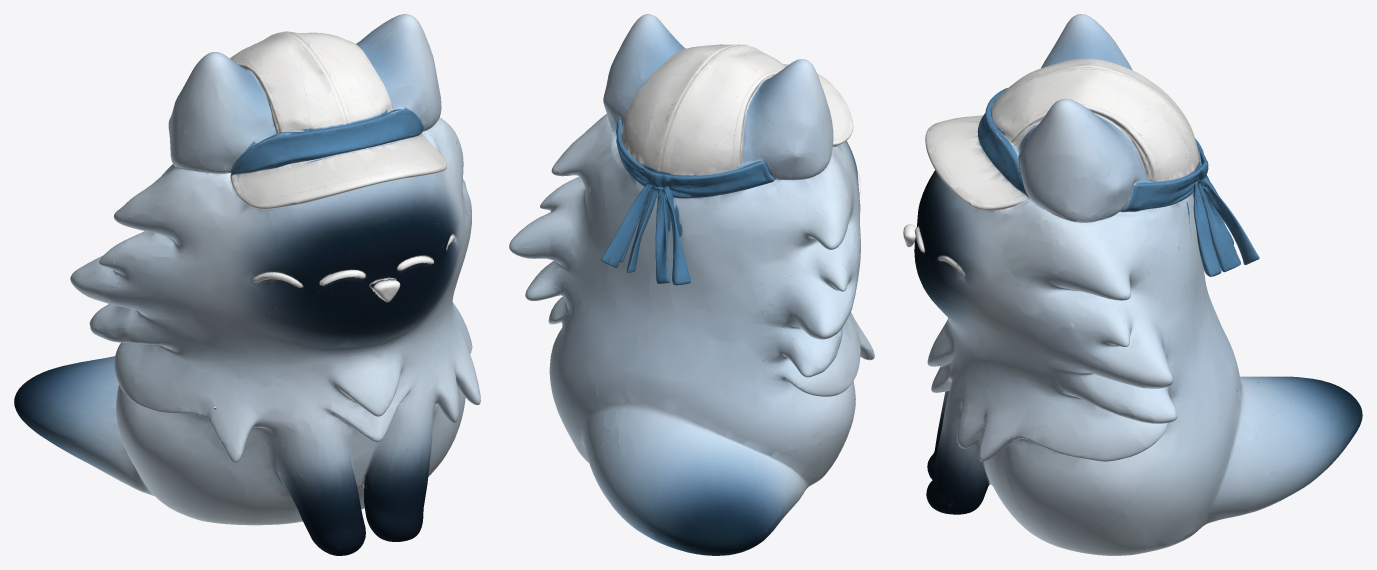
Rendered from sailor-hat-Cq8WC-Os.glb.
The picture shows the model from 3 angles, left to right: view 1: azimuth 30°, elevation 25°; view 2: azimuth 150°, elevation 25°; view 3: azimuth 270°, elevation 25°; orthographic projection. The views are drawn at different scales.
Visible parts, largest first — view 1: worn-sailor-hat; view 2: worn-sailor-hat; view 3: worn-sailor-hat.
Part boxes in pixels (box(x1,y1,x2,y2)): worn-sailor-hat: box(14, 14, 480, 555); worn-sailor-hat: box(509, 14, 874, 555); worn-sailor-hat: box(903, 14, 1362, 555).
Size of the model in its own units: 1.62 by 1.9 by 1.79.
1 material, 1 textured.
